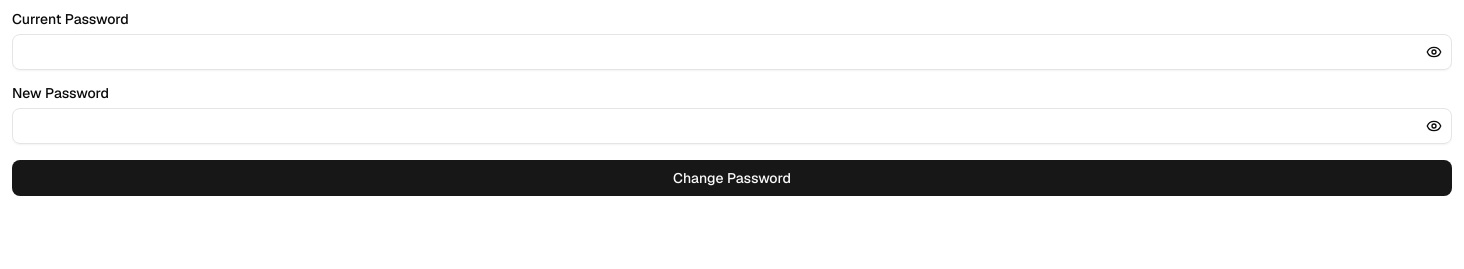
ChangePasswordForm › shows validation error for empty current password
The width and height of the screenshot is (1464, 269).
Note: Submit without filling anything
Click the button "Change Password". click: click(732, 178)
box: [12, 160, 1452, 196]
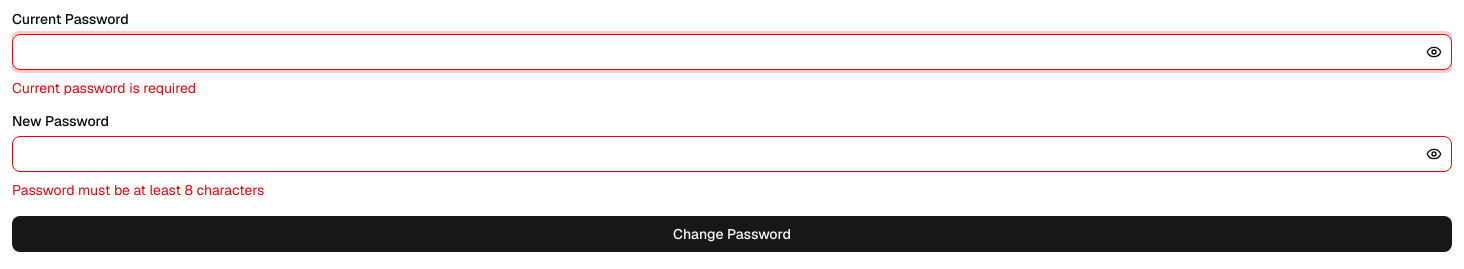
Expected: the text "Current password is required" is shown, [12, 79, 196, 97]
